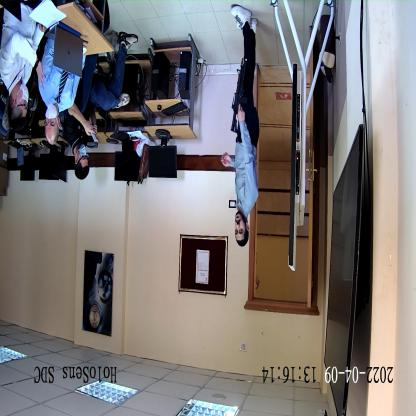handgun: (227, 51, 250, 135)
